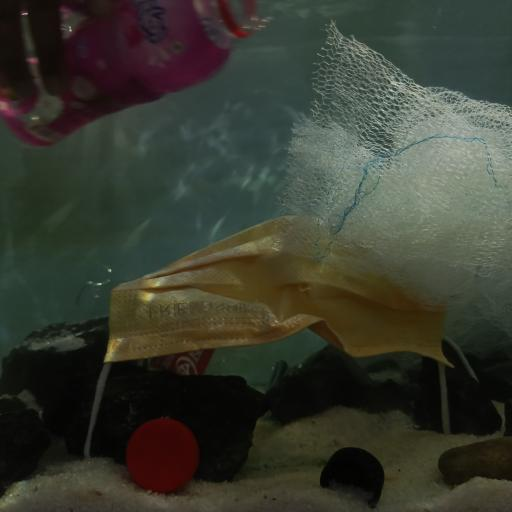bottle_cap: (126, 417, 198, 493), (319, 446, 385, 506)
mask: (100, 214, 460, 383)
net: (275, 17, 512, 353)
plastic_bottle: (1, 0, 273, 152), (74, 264, 290, 390)
